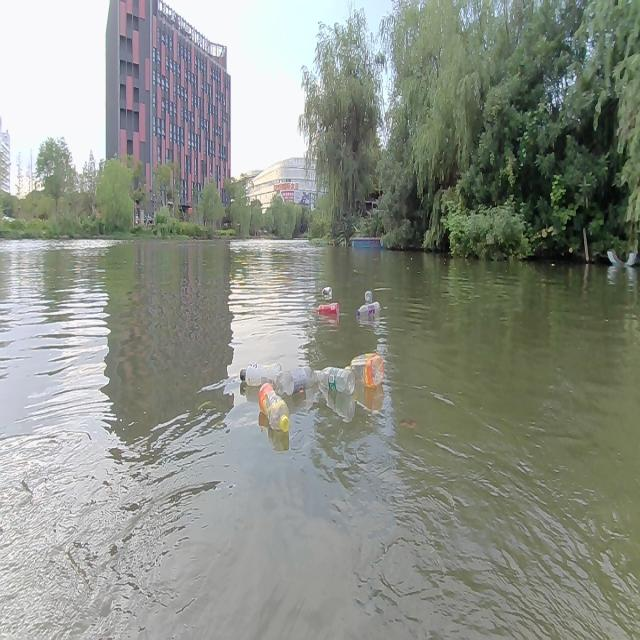bottle: (255, 382, 294, 442), (311, 362, 353, 402), (344, 350, 386, 390), (237, 358, 281, 387), (272, 367, 312, 394), (317, 300, 338, 318), (358, 302, 380, 319), (320, 285, 330, 298), (363, 288, 370, 302)
